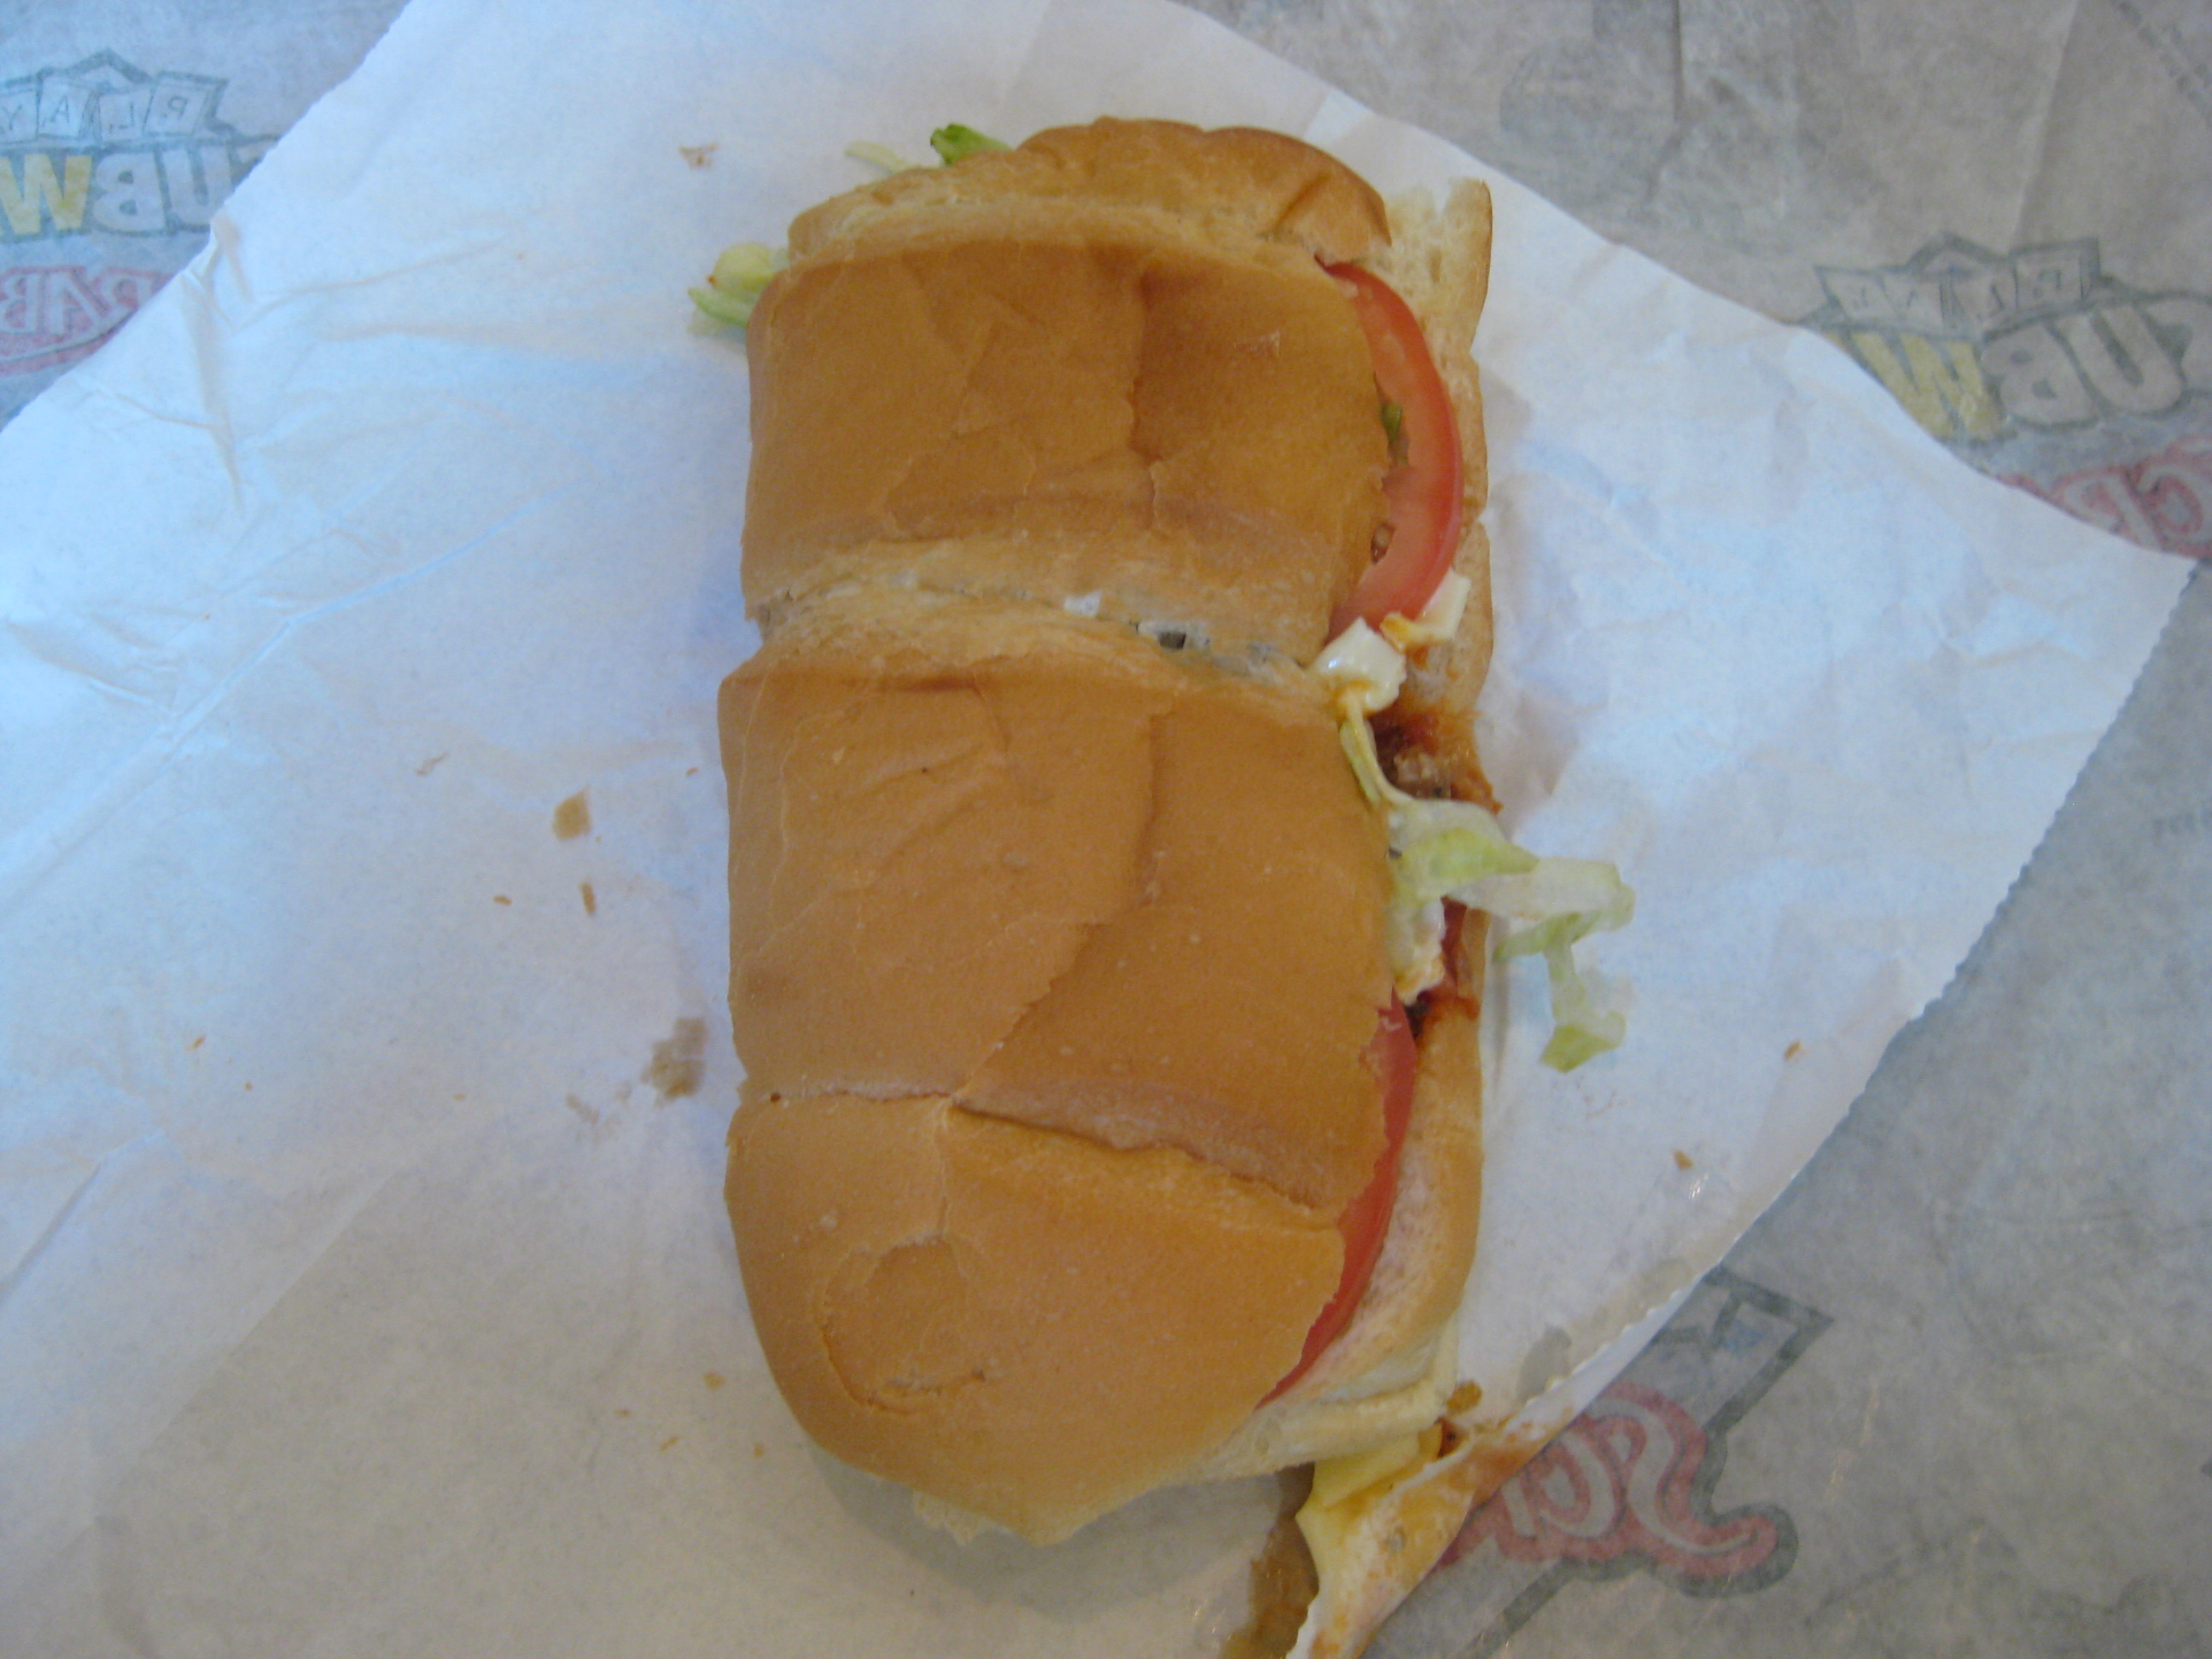sub: (695, 87, 1586, 1535)
